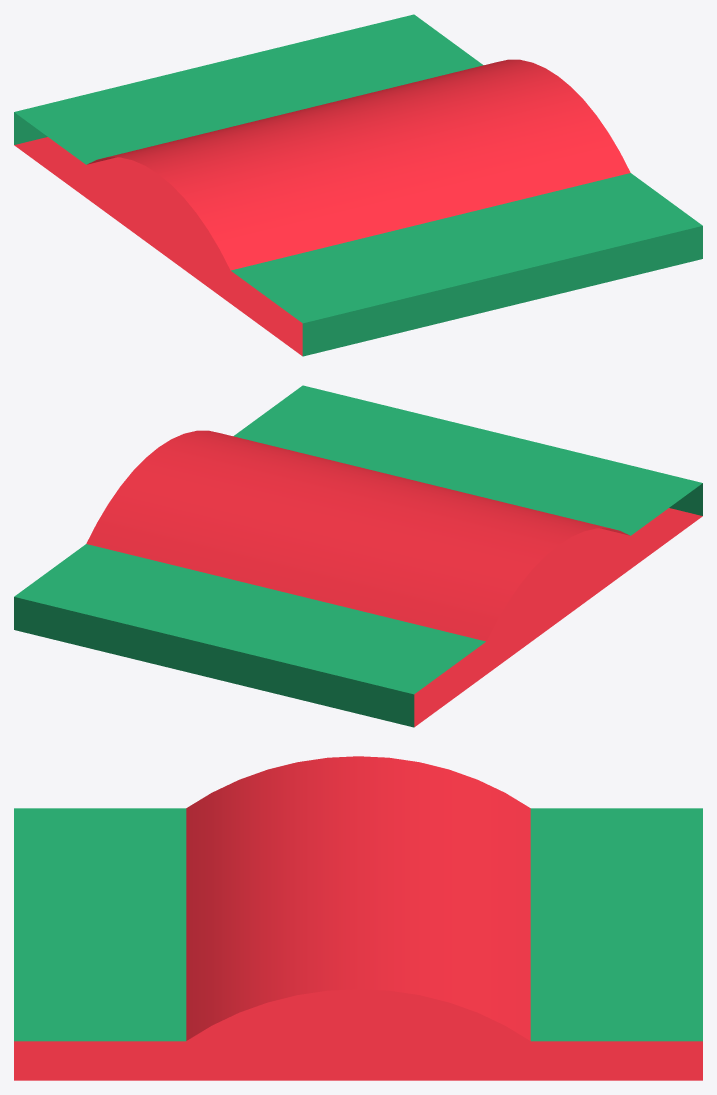
File: HillRound base.FBX
3 renders of one model, top to bottom at view 1: azimuth 30°, elevation 25°; view 2: azimuth 150°, elevation 25°; view 3: azimuth 270°, elevation 25°, orthographic. The views are drawn at different scales.
Visible parts, largest first — view 1: hillRound; view 2: hillRound; view 3: hillRound.
Part boxes in pixels (x1,y1,x2,y2): hillRound: (14, 14, 702, 356); hillRound: (14, 385, 702, 727); hillRound: (14, 756, 702, 1080).
Size of the model in its own units: 79.99 by 14.67 by 99.99.
